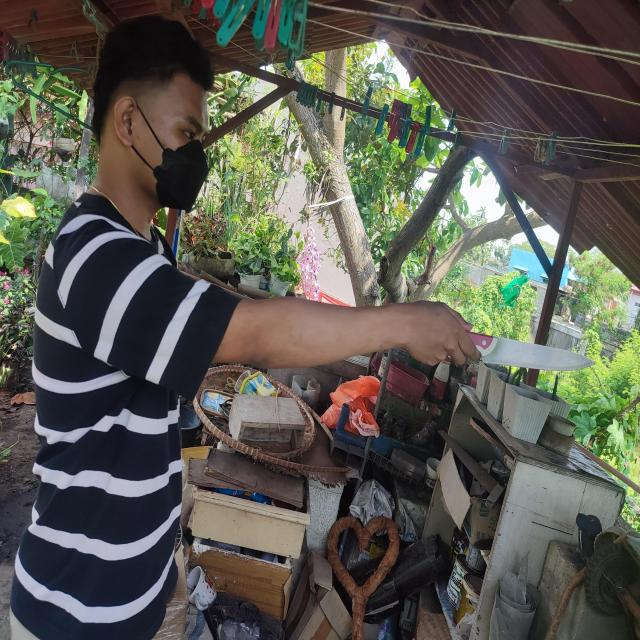knife: (465, 331, 595, 370)
